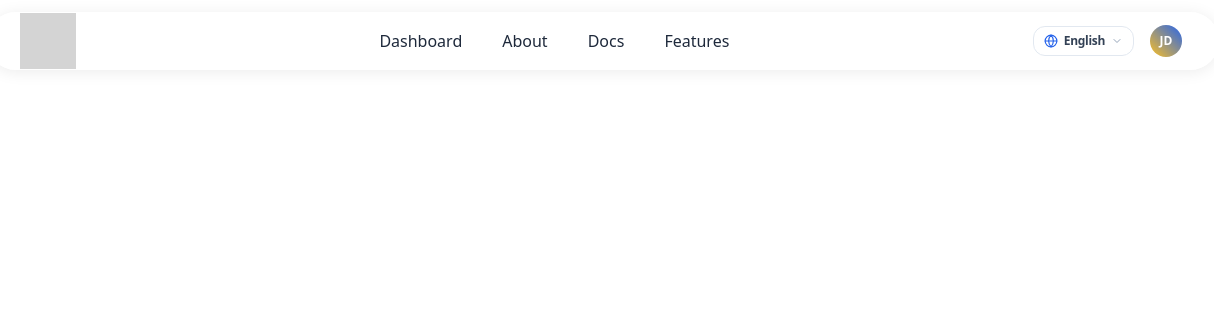
Navbar Component › Profile Dropdown Menu › shows profile dropdown when clicking user avatar
Step 1. Click the button "JD" → (1166, 41), box top-left (1146, 21), bottom-right (1186, 61)
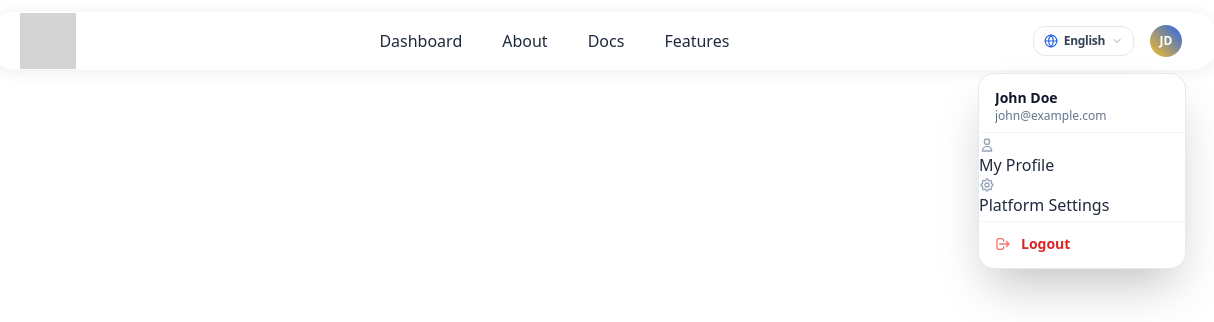
Expected: the text "John Doe" is shown, top-left (995, 88), bottom-right (1058, 107)
Expected: the button "john@example.com" is shown, top-left (995, 108), bottom-right (1169, 124)
